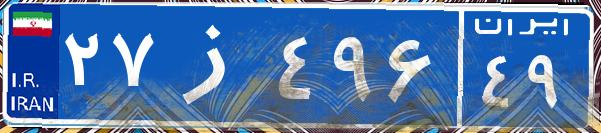2: (57, 26, 110, 107)
4: (273, 28, 330, 110), (475, 38, 525, 113)
6: (385, 28, 445, 110)
7: (110, 28, 158, 105)
9: (330, 28, 385, 110), (525, 38, 570, 115)
ز: (158, 15, 273, 115)
